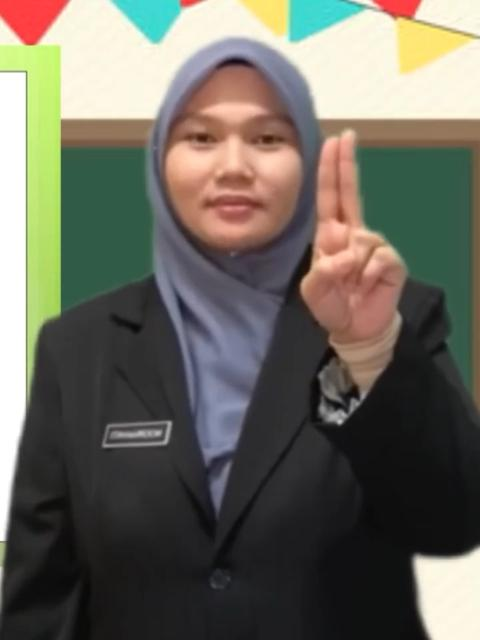U: (291, 123, 412, 344)
